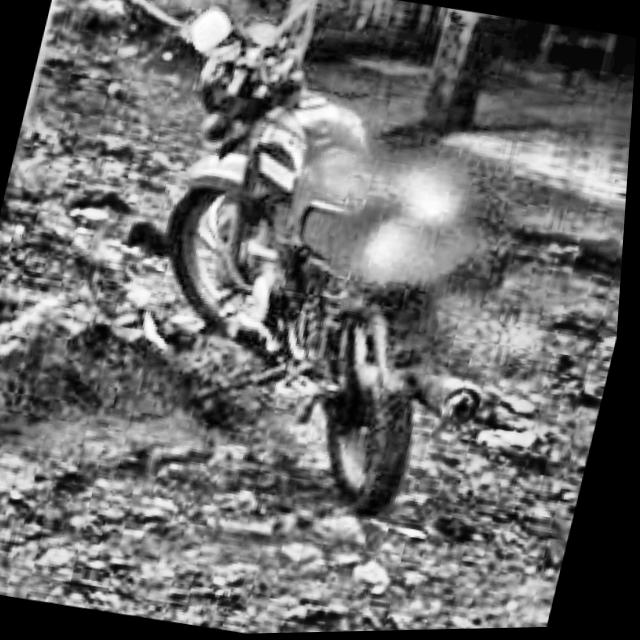motorcycle: (82, 0, 570, 546)
